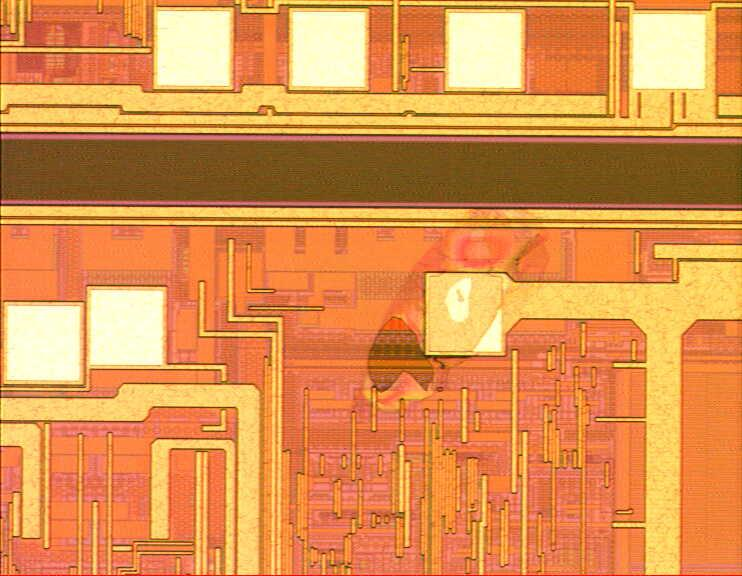COATING BAD: (360, 206, 558, 416)
